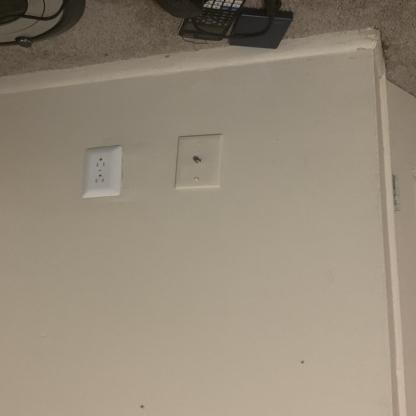OUTLET: (82, 147, 121, 198)
